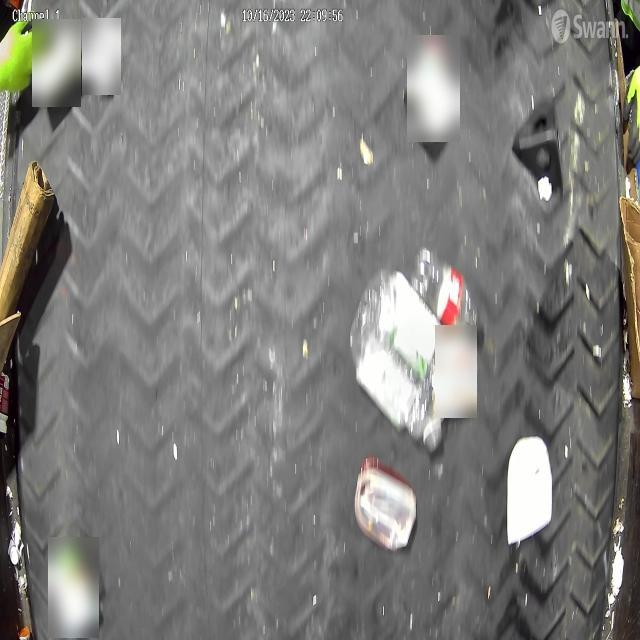plastic_bottle: (353, 268, 442, 454), (412, 246, 478, 334)
